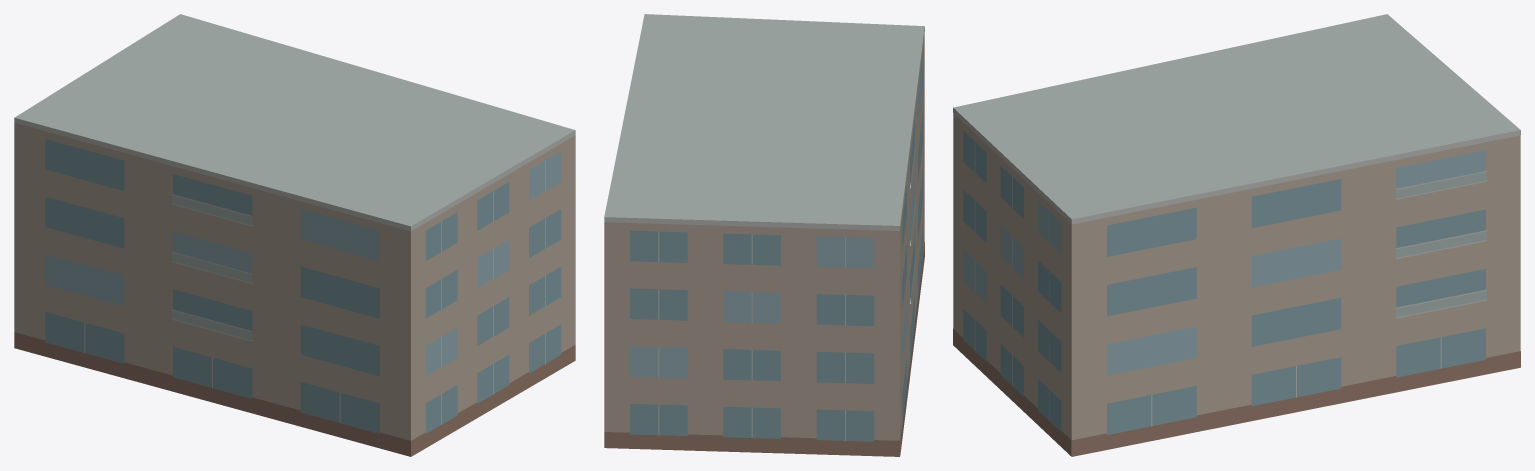
The model's file is survey-upis-32604368.glb.
The picture shows the model from 3 angles, left to right: view 1: azimuth 30°, elevation 25°; view 2: azimuth 150°, elevation 25°; view 3: azimuth 270°, elevation 25°; orthographic projection. The views are drawn at different scales.
Visible parts, largest first — view 1: survey-upis-32604368.tmp; view 2: survey-upis-32604368.tmp; view 3: survey-upis-32604368.tmp.
Part boxes in pixels (box(x1,y1,x2,y2)): survey-upis-32604368.tmp: box(14, 14, 575, 456); survey-upis-32604368.tmp: box(604, 14, 924, 456); survey-upis-32604368.tmp: box(953, 14, 1520, 456).
Bounding box in the file's own units: 20.67 × 11.15 × 24.15.
